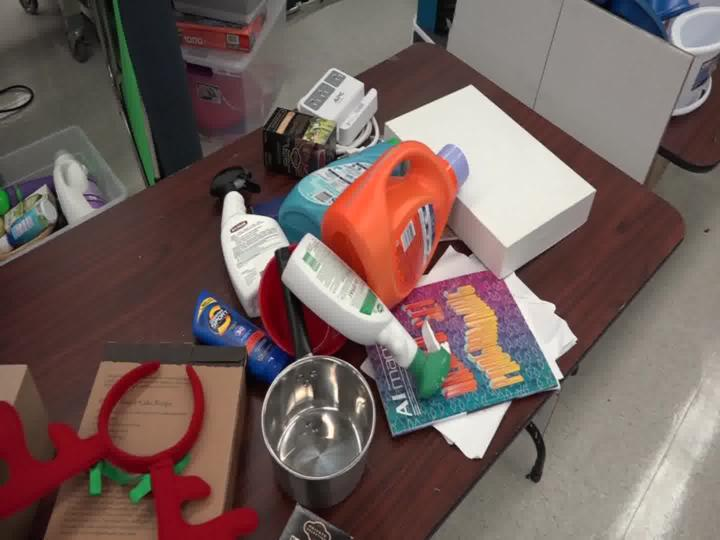tide: (299, 131, 479, 324)
